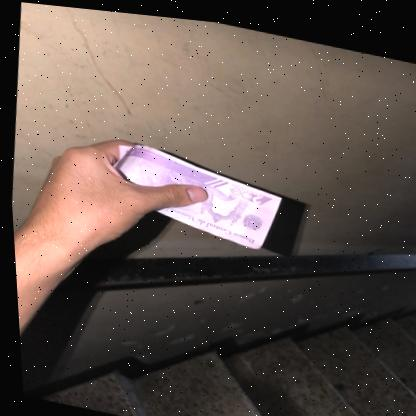one_hundred-back-vef: (101, 135, 285, 249)
